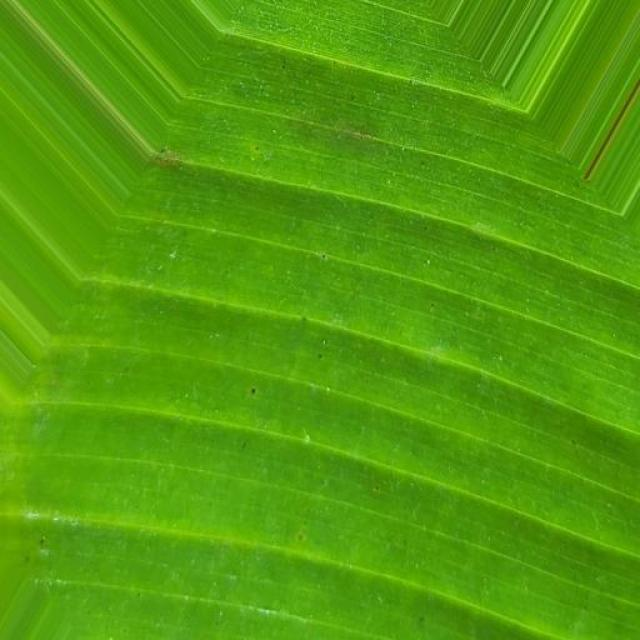Black_leaf_spot: (63, 13, 629, 640)
